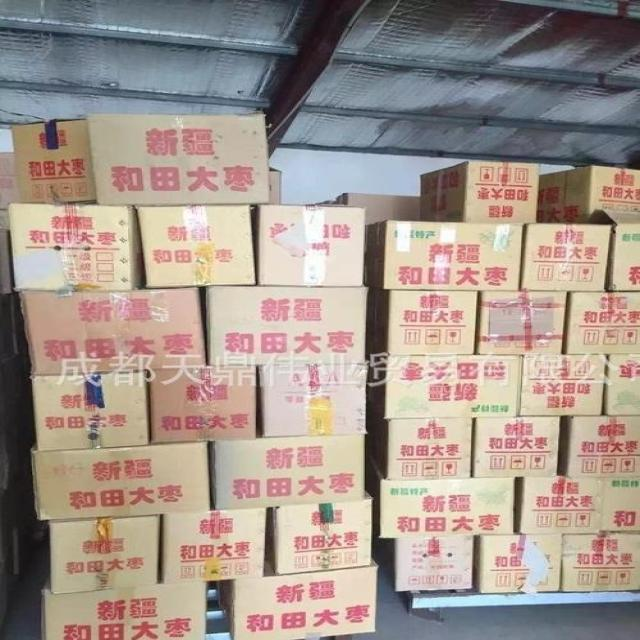box: (87, 112, 273, 206), (20, 282, 206, 374), (31, 441, 210, 522), (216, 552, 380, 640), (366, 445, 516, 539), (205, 285, 367, 365), (366, 339, 524, 418), (9, 202, 146, 292), (207, 434, 366, 511), (366, 219, 524, 291), (41, 575, 206, 640), (132, 204, 256, 289), (31, 370, 150, 452), (252, 204, 367, 287), (265, 490, 374, 576), (50, 515, 161, 594), (148, 365, 257, 443), (256, 363, 369, 438), (156, 508, 268, 583), (366, 283, 479, 356), (366, 406, 474, 480), (421, 160, 541, 224), (12, 118, 99, 202), (372, 531, 476, 591), (520, 224, 613, 291), (476, 291, 568, 355), (539, 166, 640, 223), (518, 354, 607, 416), (513, 473, 603, 534), (472, 533, 563, 593), (472, 416, 561, 477), (557, 415, 640, 478), (563, 291, 640, 354), (561, 533, 640, 592), (588, 208, 640, 291), (338, 192, 422, 224), (603, 354, 640, 415), (600, 478, 640, 533), (0, 152, 22, 230), (0, 230, 10, 294), (270, 165, 283, 204)
